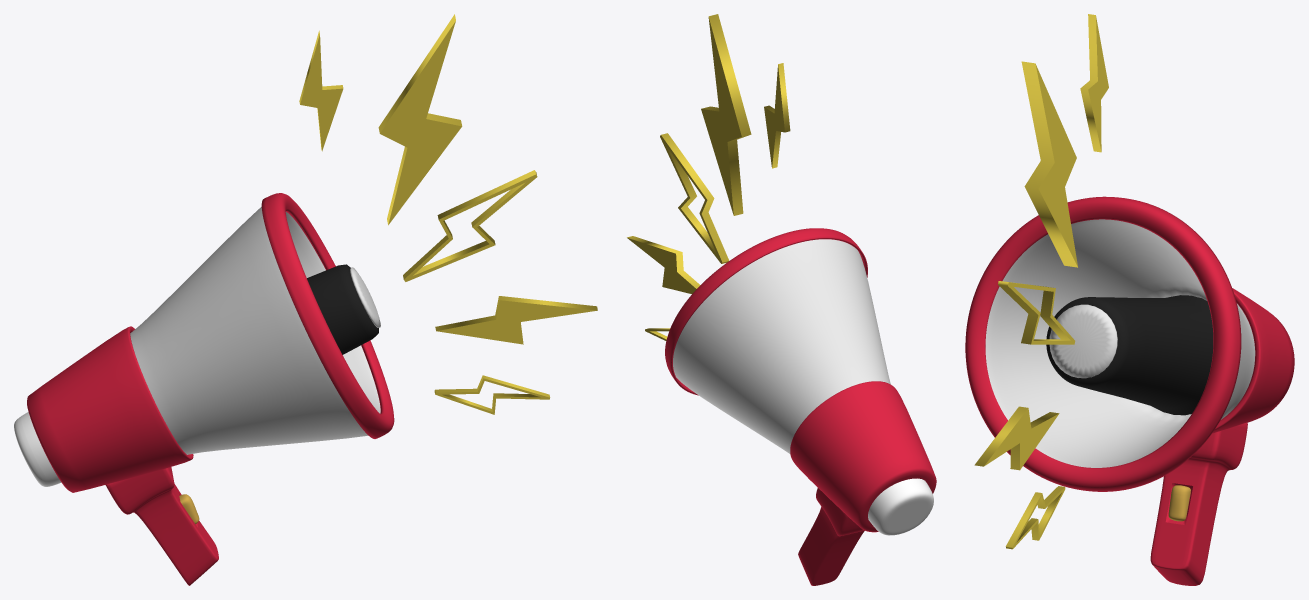
The model's file is work.glb.
3 renders of one model, left to right at view 1: azimuth 30°, elevation 25°; view 2: azimuth 150°, elevation 25°; view 3: azimuth 270°, elevation 25°, orthographic. The views are drawn at different scales.
Visible parts, largest first — view 1: Cylinder.007_10, Curve.005_3, Curve.007_5, Curve.006_4, Curve.008_6, Curve.009_7; view 2: Cylinder.007_10, Curve.005_3, Curve.006_4, Curve.007_5, Curve.008_6; view 3: Cylinder.007_10, Curve.005_3, Cylinder.009_12, Curve.007_5, Curve.008_6, Curve.006_4, Curve.009_7.
Part boxes in pixels (x1,y1,x2,y2): Cylinder.007_10: (14, 193, 394, 585); Curve.005_3: (378, 14, 462, 225); Curve.007_5: (435, 296, 597, 344); Curve.006_4: (403, 170, 537, 281); Curve.008_6: (299, 30, 343, 151); Curve.009_7: (434, 375, 550, 414); Cylinder.007_10: (665, 228, 936, 585); Curve.005_3: (701, 14, 751, 215); Curve.006_4: (660, 133, 729, 263); Curve.007_5: (627, 236, 700, 293); Curve.008_6: (764, 63, 790, 168); Cylinder.007_10: (965, 196, 1294, 585); Curve.005_3: (1021, 61, 1077, 267); Cylinder.009_12: (1049, 304, 1117, 378); Curve.007_5: (974, 406, 1059, 470); Curve.008_6: (1080, 14, 1108, 152); Curve.006_4: (998, 281, 1075, 344); Curve.009_7: (1005, 486, 1065, 549).
Bounding box in the file's own units: 2.4 × 2.79 × 1.32.
